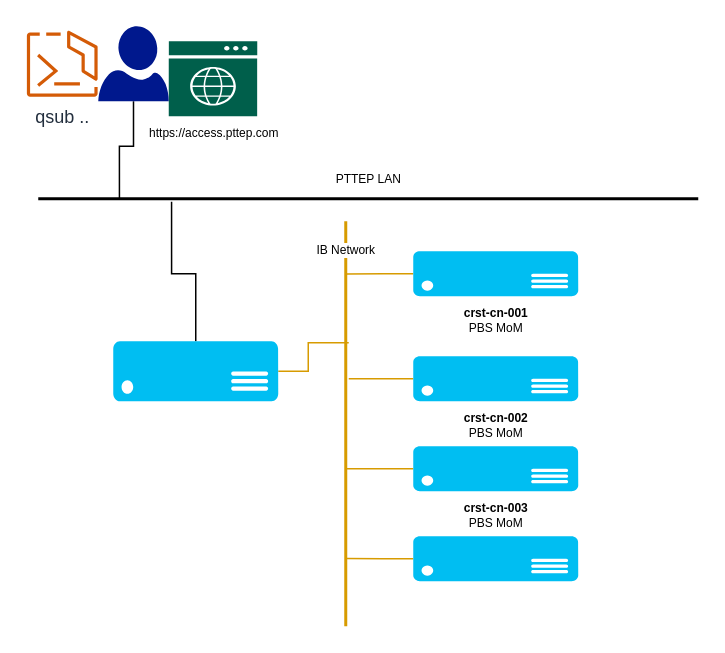
This 725x653 diagram has some shape labels left out. The centre of each missing label's shape, as x and y in pixels:
crst-cn-004 PBS MoM: (495,558)
crst-hn-001 PBS Pro Server Altair LMX Server Altair Access Server: (195,370)
